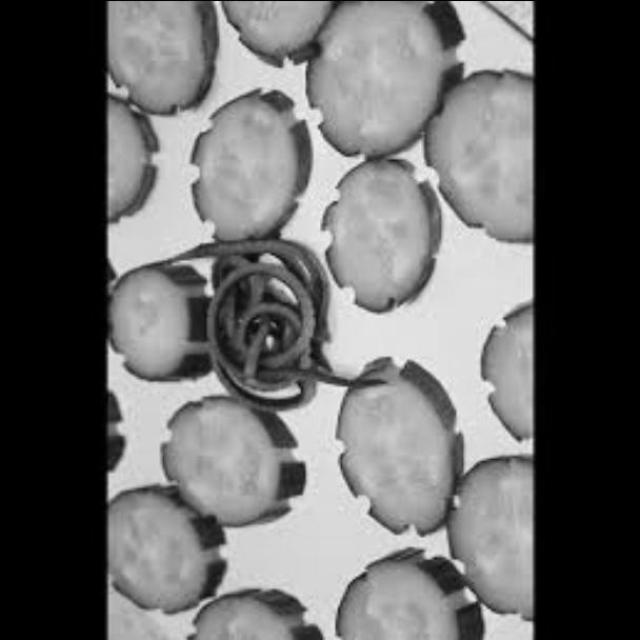cucumber: (304, 0, 469, 171), (150, 384, 314, 538), (325, 356, 458, 536), (421, 66, 535, 246), (187, 88, 314, 248), (94, 479, 232, 620), (321, 161, 452, 306), (94, 257, 212, 391), (328, 548, 484, 639), (88, 0, 210, 114), (452, 454, 532, 622), (80, 96, 158, 236), (166, 578, 328, 640), (474, 294, 536, 449), (212, 0, 332, 72)
